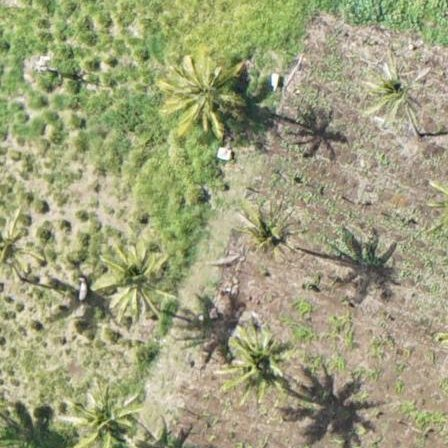palm_tree: (92, 229, 172, 315), (218, 314, 297, 398), (160, 57, 237, 138), (67, 387, 138, 448), (363, 59, 424, 114), (240, 205, 291, 257)
